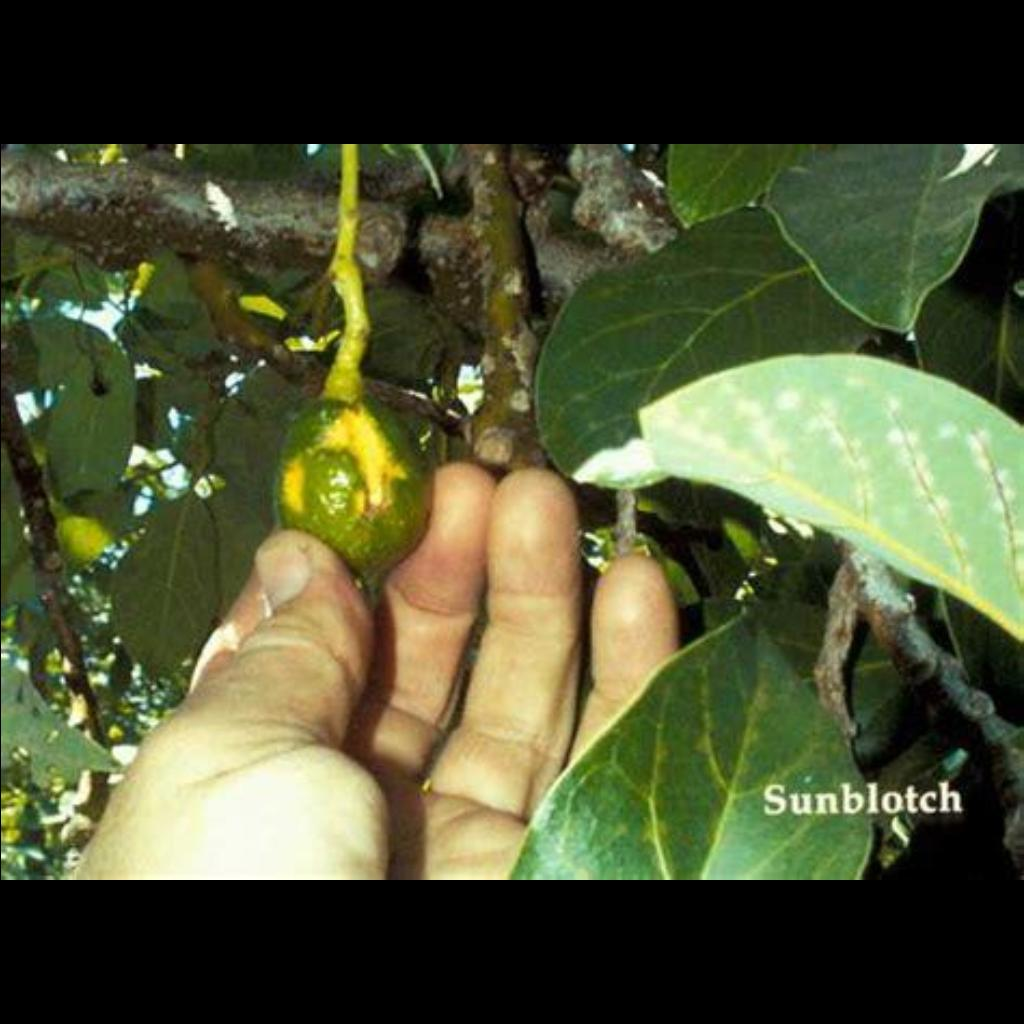sunblotch: (257, 378, 441, 553)
